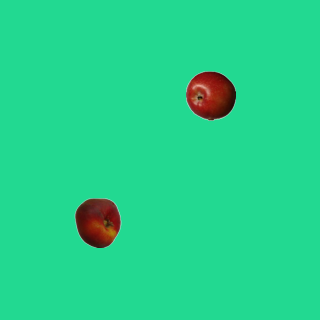Apple Braeburn: (185, 70, 235, 120)
Nectarine Flat: (72, 197, 122, 247)
